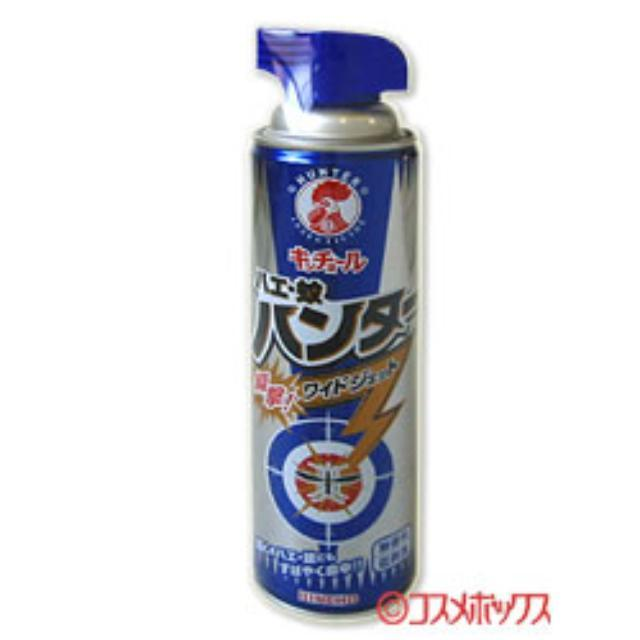chemical_spray_can: (222, 10, 434, 628)
